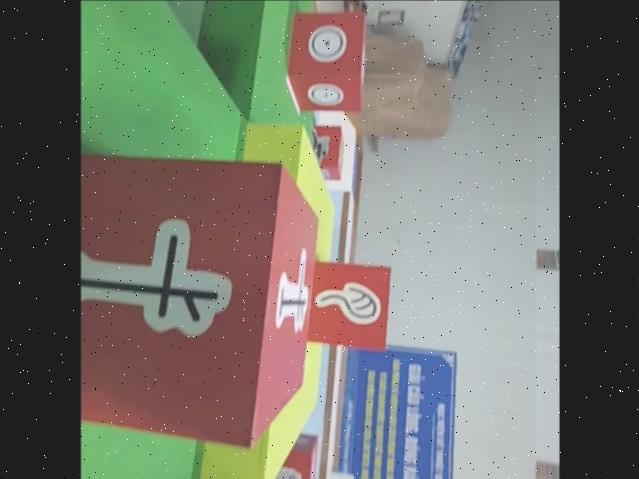R1: (303, 124, 345, 179)
R2 Fake: (303, 258, 392, 352)
R2 Real: (80, 153, 323, 444), (284, 9, 367, 112)
